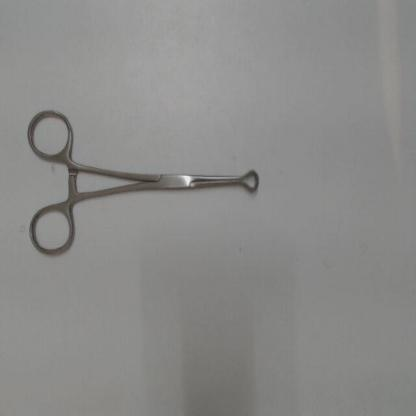Babcock Tissue Forceps: (24, 103, 263, 261)
